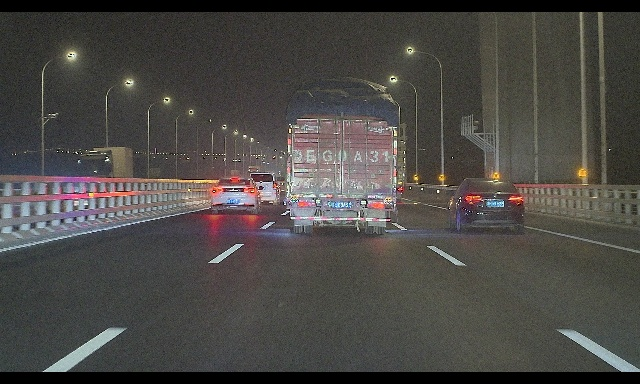car: (448, 178, 525, 234), (212, 177, 264, 215), (249, 173, 282, 205)
truck: (285, 77, 396, 235), (342, 123, 406, 202), (77, 146, 134, 200), (247, 165, 268, 185)
